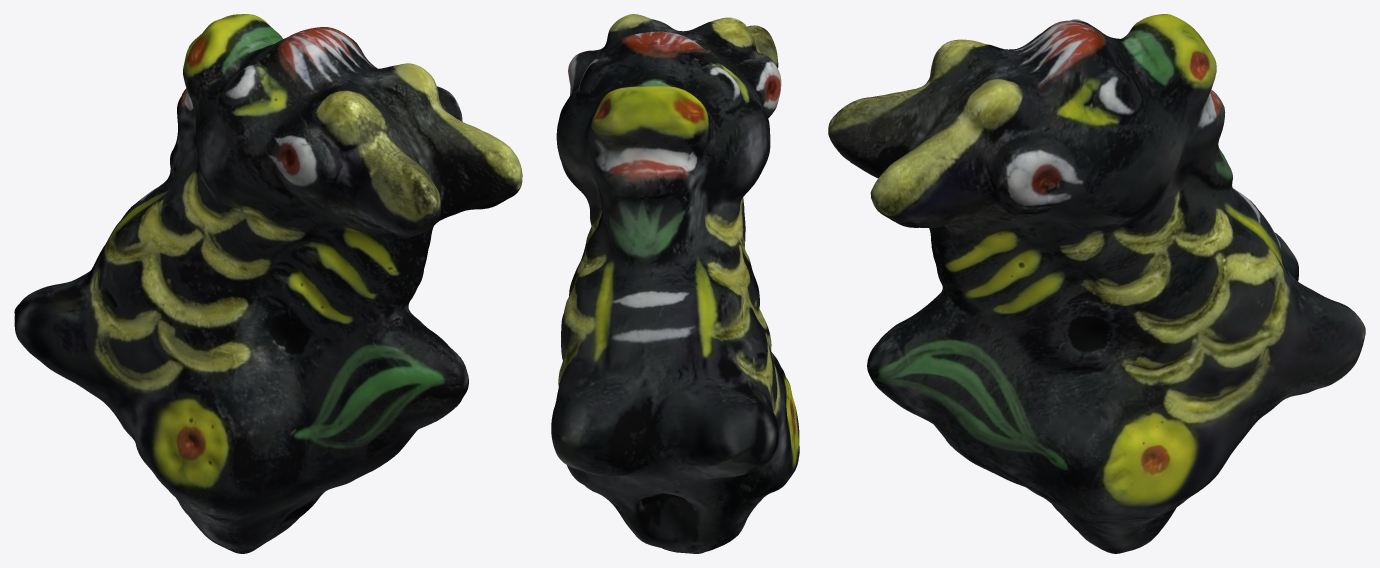
The picture shows the model from 3 angles, left to right: view 1: azimuth 30°, elevation 25°; view 2: azimuth 150°, elevation 25°; view 3: azimuth 270°, elevation 25°; orthographic projection. The views are drawn at different scales.
Bounding box in the file's own units: 0.1736 × 0.2597 × 0.2329.
Materials: 1 (1 with a texture image).
